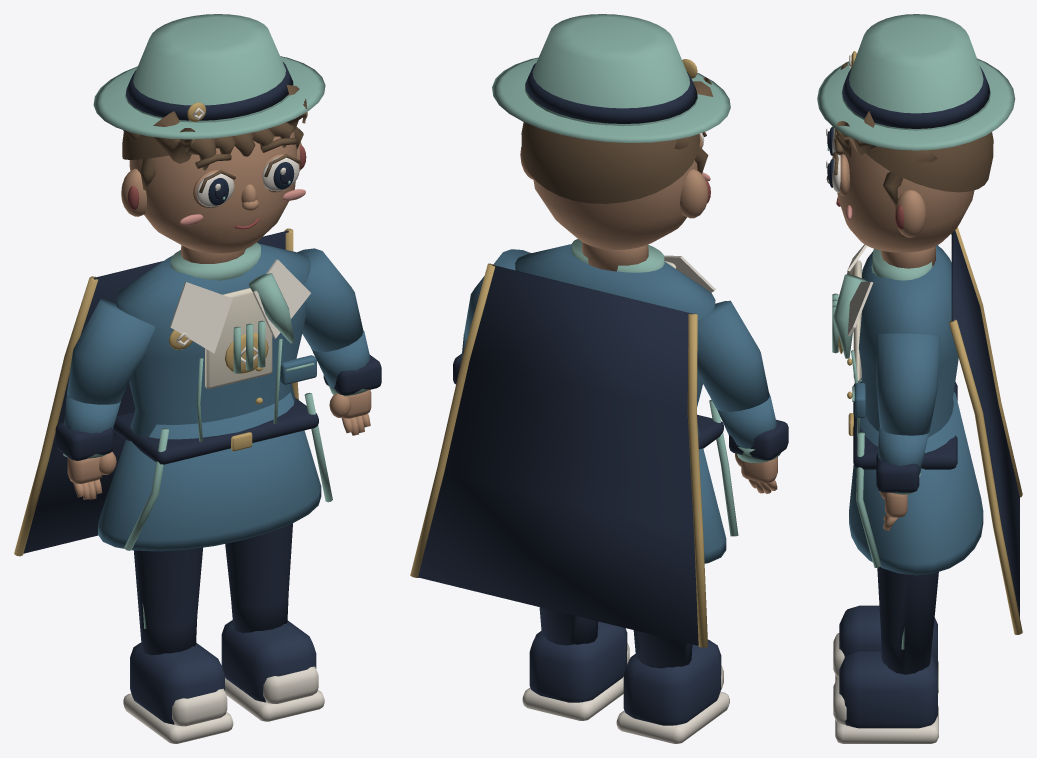
The model's file is npc_mistlake_lieutenant_1.glb.
3 renders of one model, left to right at view 1: azimuth 30°, elevation 25°; view 2: azimuth 150°, elevation 25°; view 3: azimuth 270°, elevation 25°, orthographic. The views are drawn at different scales.
Visible parts, largest first — view 1: figure.030; view 2: figure.030; view 3: figure.030.
Boxes of the visible parts, x1=… form: figure.030: x1=14, y1=14, x2=381, y2=743; figure.030: x1=410, y1=14, x2=788, y2=743; figure.030: x1=817, y1=14, x2=1022, y2=743.
Size of the model in its own units: 0.8391 by 1.72 by 0.4771.
